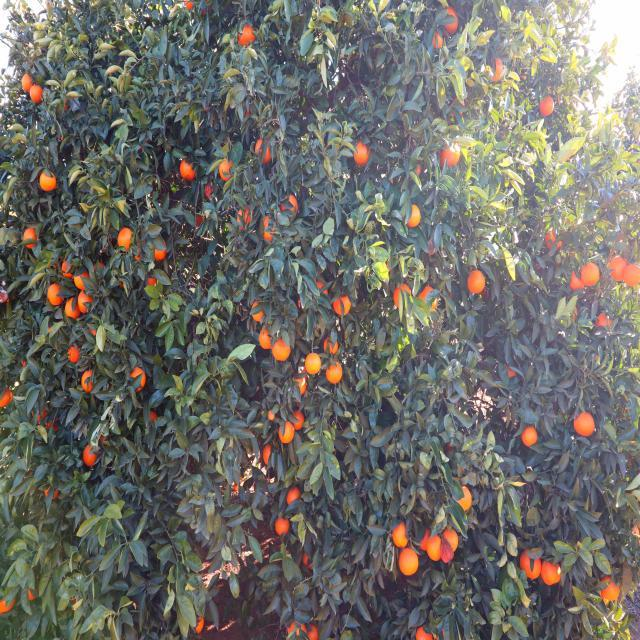Jeruk Sudah Matang: (518, 547, 542, 581), (439, 140, 462, 172), (126, 364, 150, 394), (256, 134, 280, 164), (278, 192, 302, 222), (272, 328, 292, 364), (572, 408, 596, 438), (540, 558, 564, 588), (451, 482, 473, 514), (402, 200, 423, 233), (140, 409, 163, 439), (420, 286, 443, 316), (598, 576, 622, 604), (20, 573, 42, 603), (150, 229, 170, 262), (392, 282, 414, 312), (397, 548, 420, 576), (42, 472, 62, 504), (178, 152, 198, 182), (352, 139, 372, 169), (260, 216, 280, 246), (0, 576, 17, 611), (73, 267, 94, 294), (414, 620, 442, 640), (468, 268, 488, 296), (500, 358, 520, 386), (520, 422, 540, 450), (443, 523, 461, 554), (82, 442, 103, 468), (624, 257, 640, 291), (487, 54, 505, 84), (610, 254, 628, 284), (29, 397, 47, 426), (416, 518, 431, 552), (82, 366, 100, 394), (442, 6, 460, 34), (286, 486, 304, 514), (595, 310, 616, 334), (237, 206, 256, 232), (22, 224, 40, 251), (304, 350, 322, 377), (331, 294, 353, 316), (251, 299, 271, 323), (286, 614, 306, 638), (218, 152, 235, 180), (539, 90, 556, 118), (40, 169, 59, 194), (324, 358, 342, 384), (392, 521, 410, 547), (582, 261, 600, 287), (78, 291, 98, 314), (237, 24, 256, 48), (44, 410, 62, 435), (428, 532, 442, 564), (258, 326, 275, 352), (58, 257, 77, 280), (118, 226, 134, 253), (190, 610, 208, 634), (288, 408, 306, 432), (407, 156, 425, 180), (239, 99, 256, 124), (0, 385, 15, 413), (440, 538, 454, 568), (67, 344, 84, 368), (46, 284, 63, 308), (429, 30, 446, 54), (280, 419, 296, 444), (94, 260, 110, 284), (64, 296, 80, 320), (90, 318, 106, 342), (547, 228, 563, 252), (193, 210, 212, 230), (316, 278, 330, 304), (302, 620, 320, 640), (147, 270, 163, 292), (276, 514, 292, 536), (292, 374, 308, 396), (136, 237, 150, 262), (323, 334, 340, 354), (262, 442, 274, 470), (314, 313, 328, 336), (570, 269, 584, 292), (28, 84, 44, 104), (302, 549, 316, 571), (566, 302, 580, 324), (96, 422, 114, 439), (202, 179, 218, 198), (21, 70, 34, 93), (296, 355, 308, 378), (298, 295, 312, 314), (376, 259, 392, 275), (19, 356, 37, 370), (61, 96, 74, 115), (0, 288, 12, 308), (441, 285, 454, 303), (228, 480, 242, 495), (205, 0, 218, 16), (518, 66, 528, 82), (268, 408, 278, 420), (186, 0, 195, 12)
